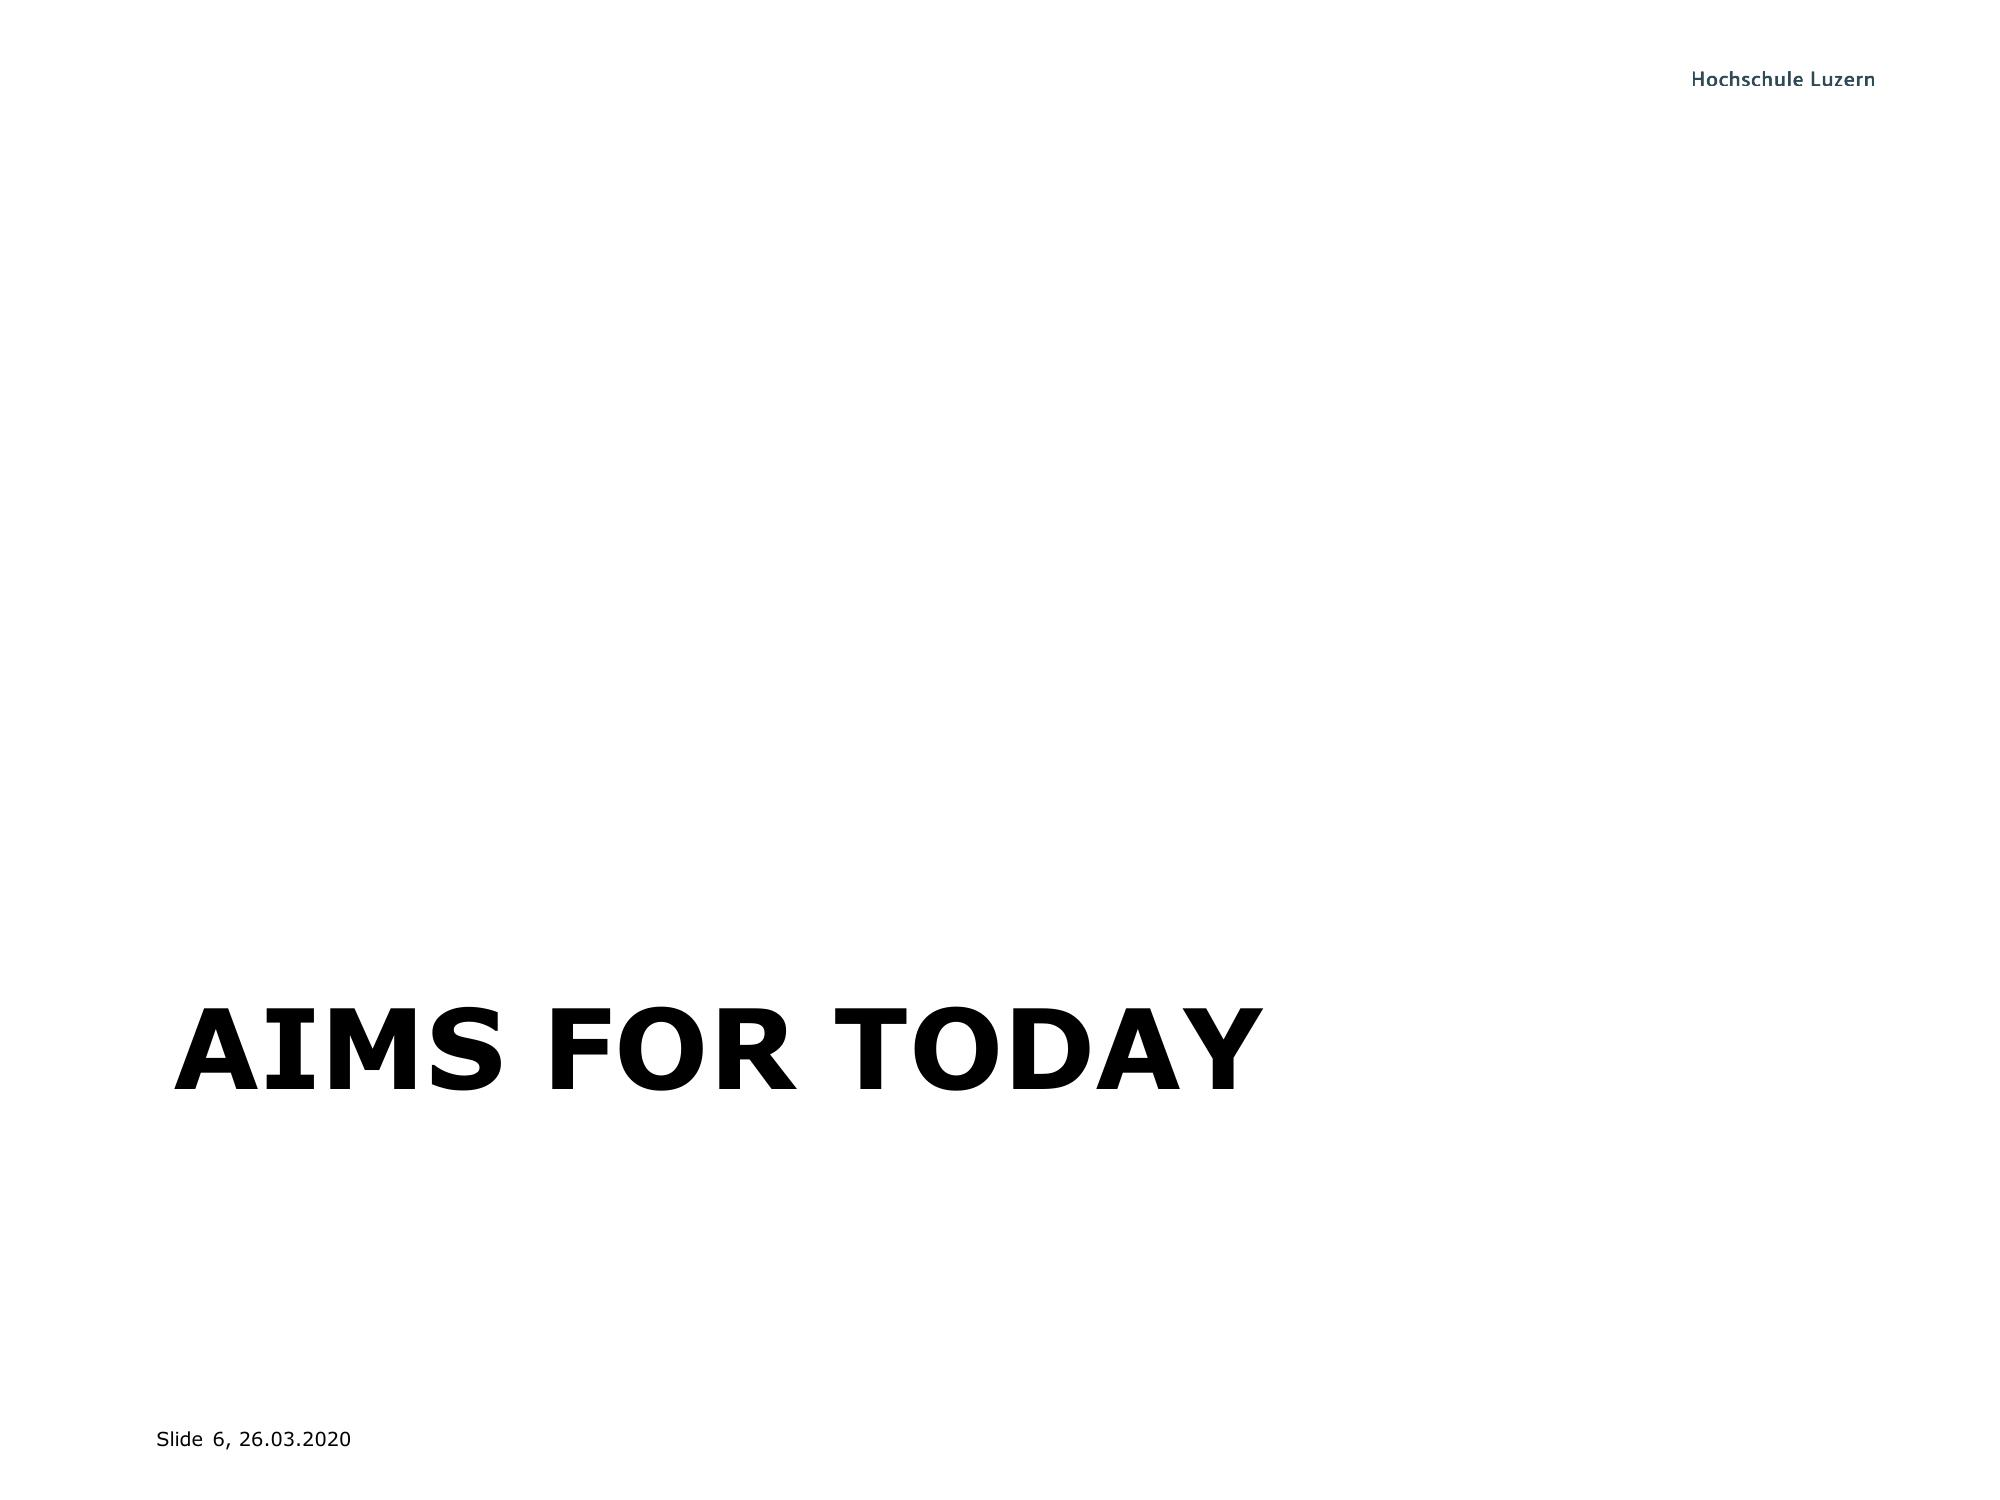Title: (162, 993, 1271, 1116)
